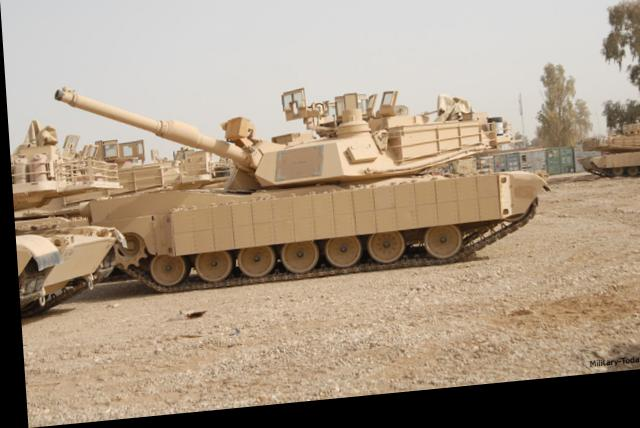tank: (112, 87, 535, 292), (577, 134, 640, 189)
